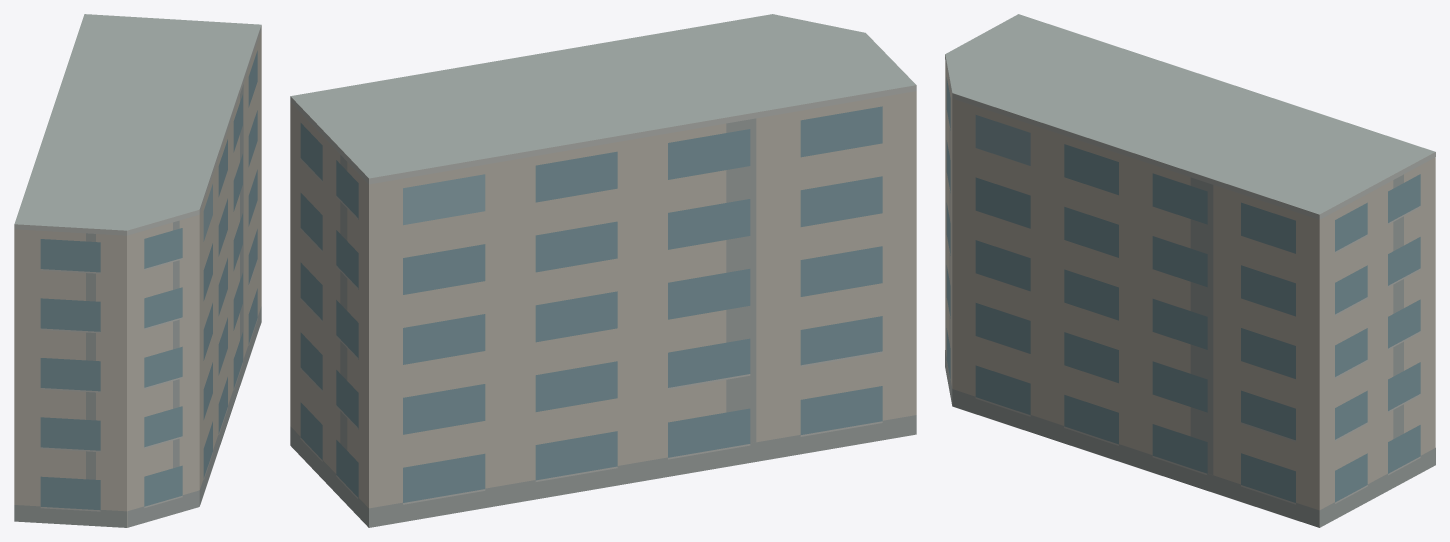
File: survey-upis-32767494.glb
The picture shows the model from 3 angles, left to right: view 1: azimuth 30°, elevation 25°; view 2: azimuth 150°, elevation 25°; view 3: azimuth 270°, elevation 25°; orthographic projection. The views are drawn at different scales.
Parts seen in each view (by area): view 1: survey-upis-32767494.tmp; view 2: survey-upis-32767494.tmp; view 3: survey-upis-32767494.tmp.
Boxes of the visible parts, <box> form: survey-upis-32767494.tmp: <box>14,14,261,527</box>; survey-upis-32767494.tmp: <box>290,14,916,527</box>; survey-upis-32767494.tmp: <box>945,14,1435,527</box>.
Size of the model in its own units: 19.71 by 14.35 by 20.37.
